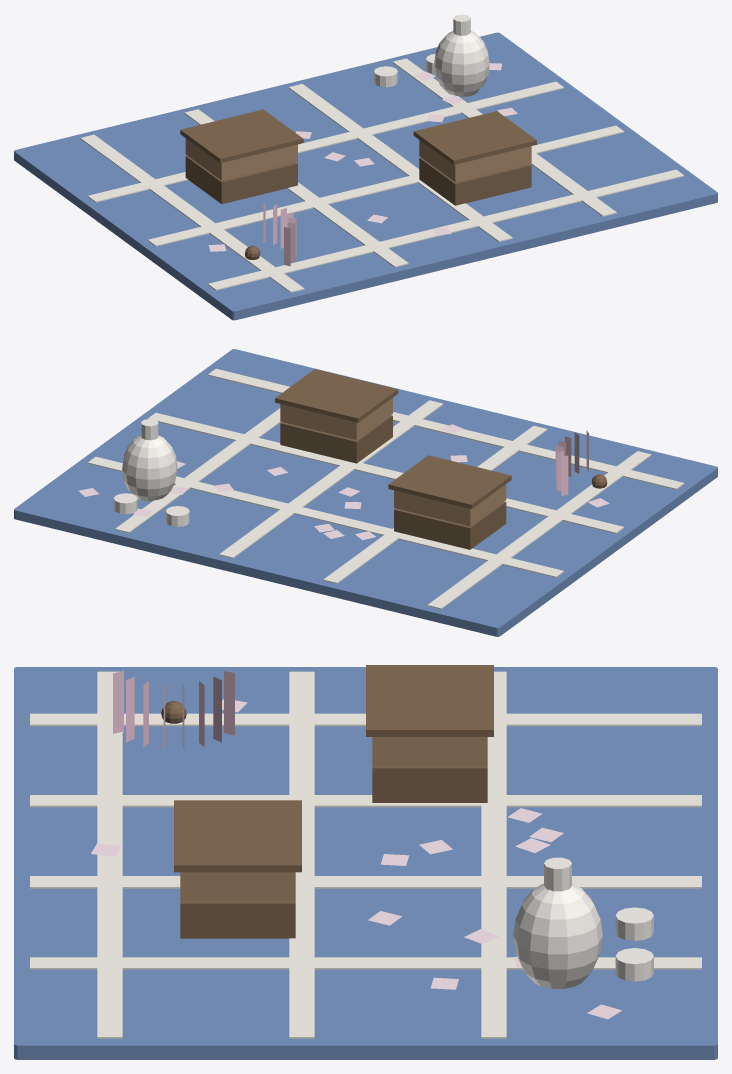
The model's file is hanami_blanket.glb.
3 renders of one model, top to bottom at view 1: azimuth 30°, elevation 25°; view 2: azimuth 150°, elevation 25°; view 3: azimuth 270°, elevation 25°, orthographic. The views are drawn at different scales.
Parts seen in each view (by area): view 1: hanami_blanket; view 2: hanami_blanket; view 3: hanami_blanket.
Boxes of the visible parts, x1=… form: hanami_blanket: x1=14, y1=14, x2=717, y2=320; hanami_blanket: x1=14, y1=349, x2=717, y2=636; hanami_blanket: x1=14, y1=665, x2=717, y2=1059.
Bounding box in the file's own units: 1.4 × 0.29 × 1.1.
